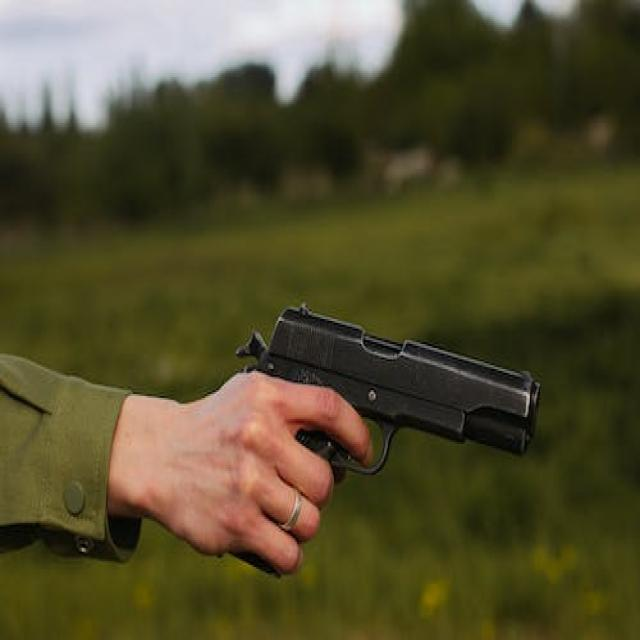HandGun: (236, 304, 541, 484)
